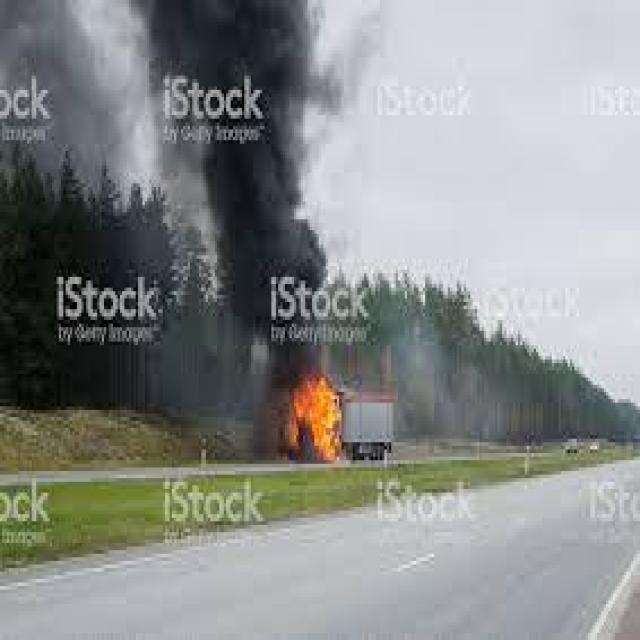fire: (267, 350, 358, 461)
smoke: (131, 0, 353, 367)
